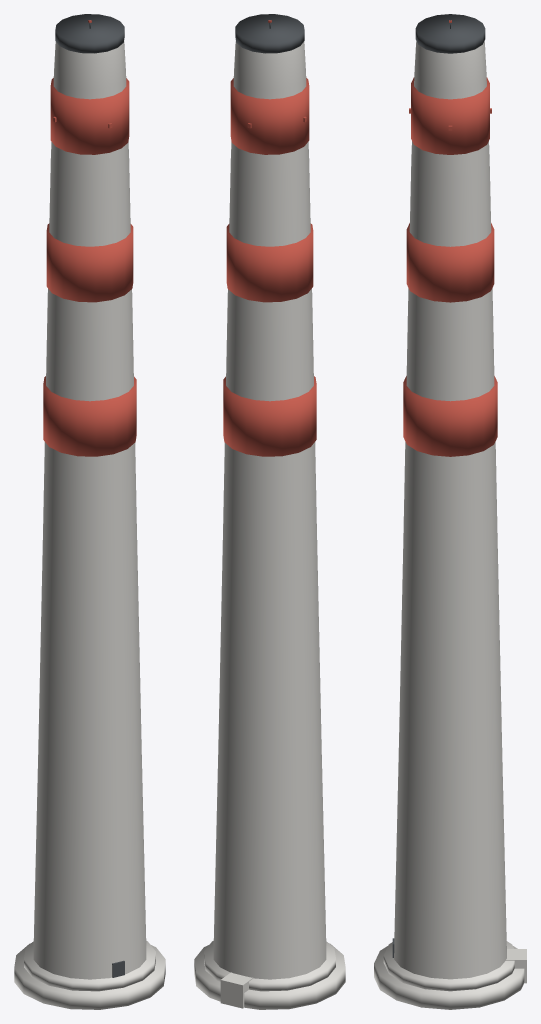
Rendered from chimney.glb.
3 renders of one model, left to right at view 1: azimuth 30°, elevation 25°; view 2: azimuth 150°, elevation 25°; view 3: azimuth 270°, elevation 25°, orthographic.
Visible parts, largest first — view 1: Merged_ConcreteLight, Merged_CityAccentRed, Merged_WindowFrame; view 2: Merged_ConcreteLight, Merged_CityAccentRed, Merged_WindowFrame; view 3: Merged_ConcreteLight, Merged_CityAccentRed, Merged_WindowFrame.
Boxes of the visible parts, bbox=[...] form: Merged_ConcreteLight: bbox=[14, 41, 165, 1009]; Merged_CityAccentRed: bbox=[43, 20, 136, 456]; Merged_WindowFrame: bbox=[55, 14, 124, 977]; Merged_ConcreteLight: bbox=[194, 41, 345, 1009]; Merged_CityAccentRed: bbox=[223, 20, 316, 456]; Merged_WindowFrame: bbox=[235, 14, 304, 53]; Merged_ConcreteLight: bbox=[374, 41, 526, 1009]; Merged_CityAccentRed: bbox=[403, 20, 497, 456]; Merged_WindowFrame: bbox=[392, 14, 485, 957].
Bounding box in the file's own units: 19 × 131 × 19.
